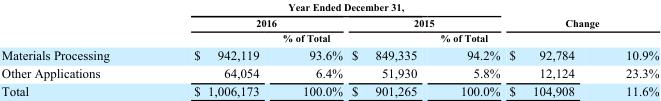table: (0, 1, 658, 97)
table column: (0, 1, 151, 97), (151, 1, 270, 97), (504, 1, 599, 97), (346, 1, 427, 97), (427, 1, 504, 97), (270, 1, 346, 97), (599, 1, 658, 97)
table column header: (0, 1, 658, 63)
table row: (0, 30, 658, 63), (0, 63, 658, 81), (0, 14, 658, 30), (0, 81, 658, 97), (0, 1, 658, 14)
table spanning cell: (0, 1, 151, 63), (151, 1, 504, 14), (504, 1, 658, 30), (151, 14, 346, 30), (346, 14, 504, 30)
